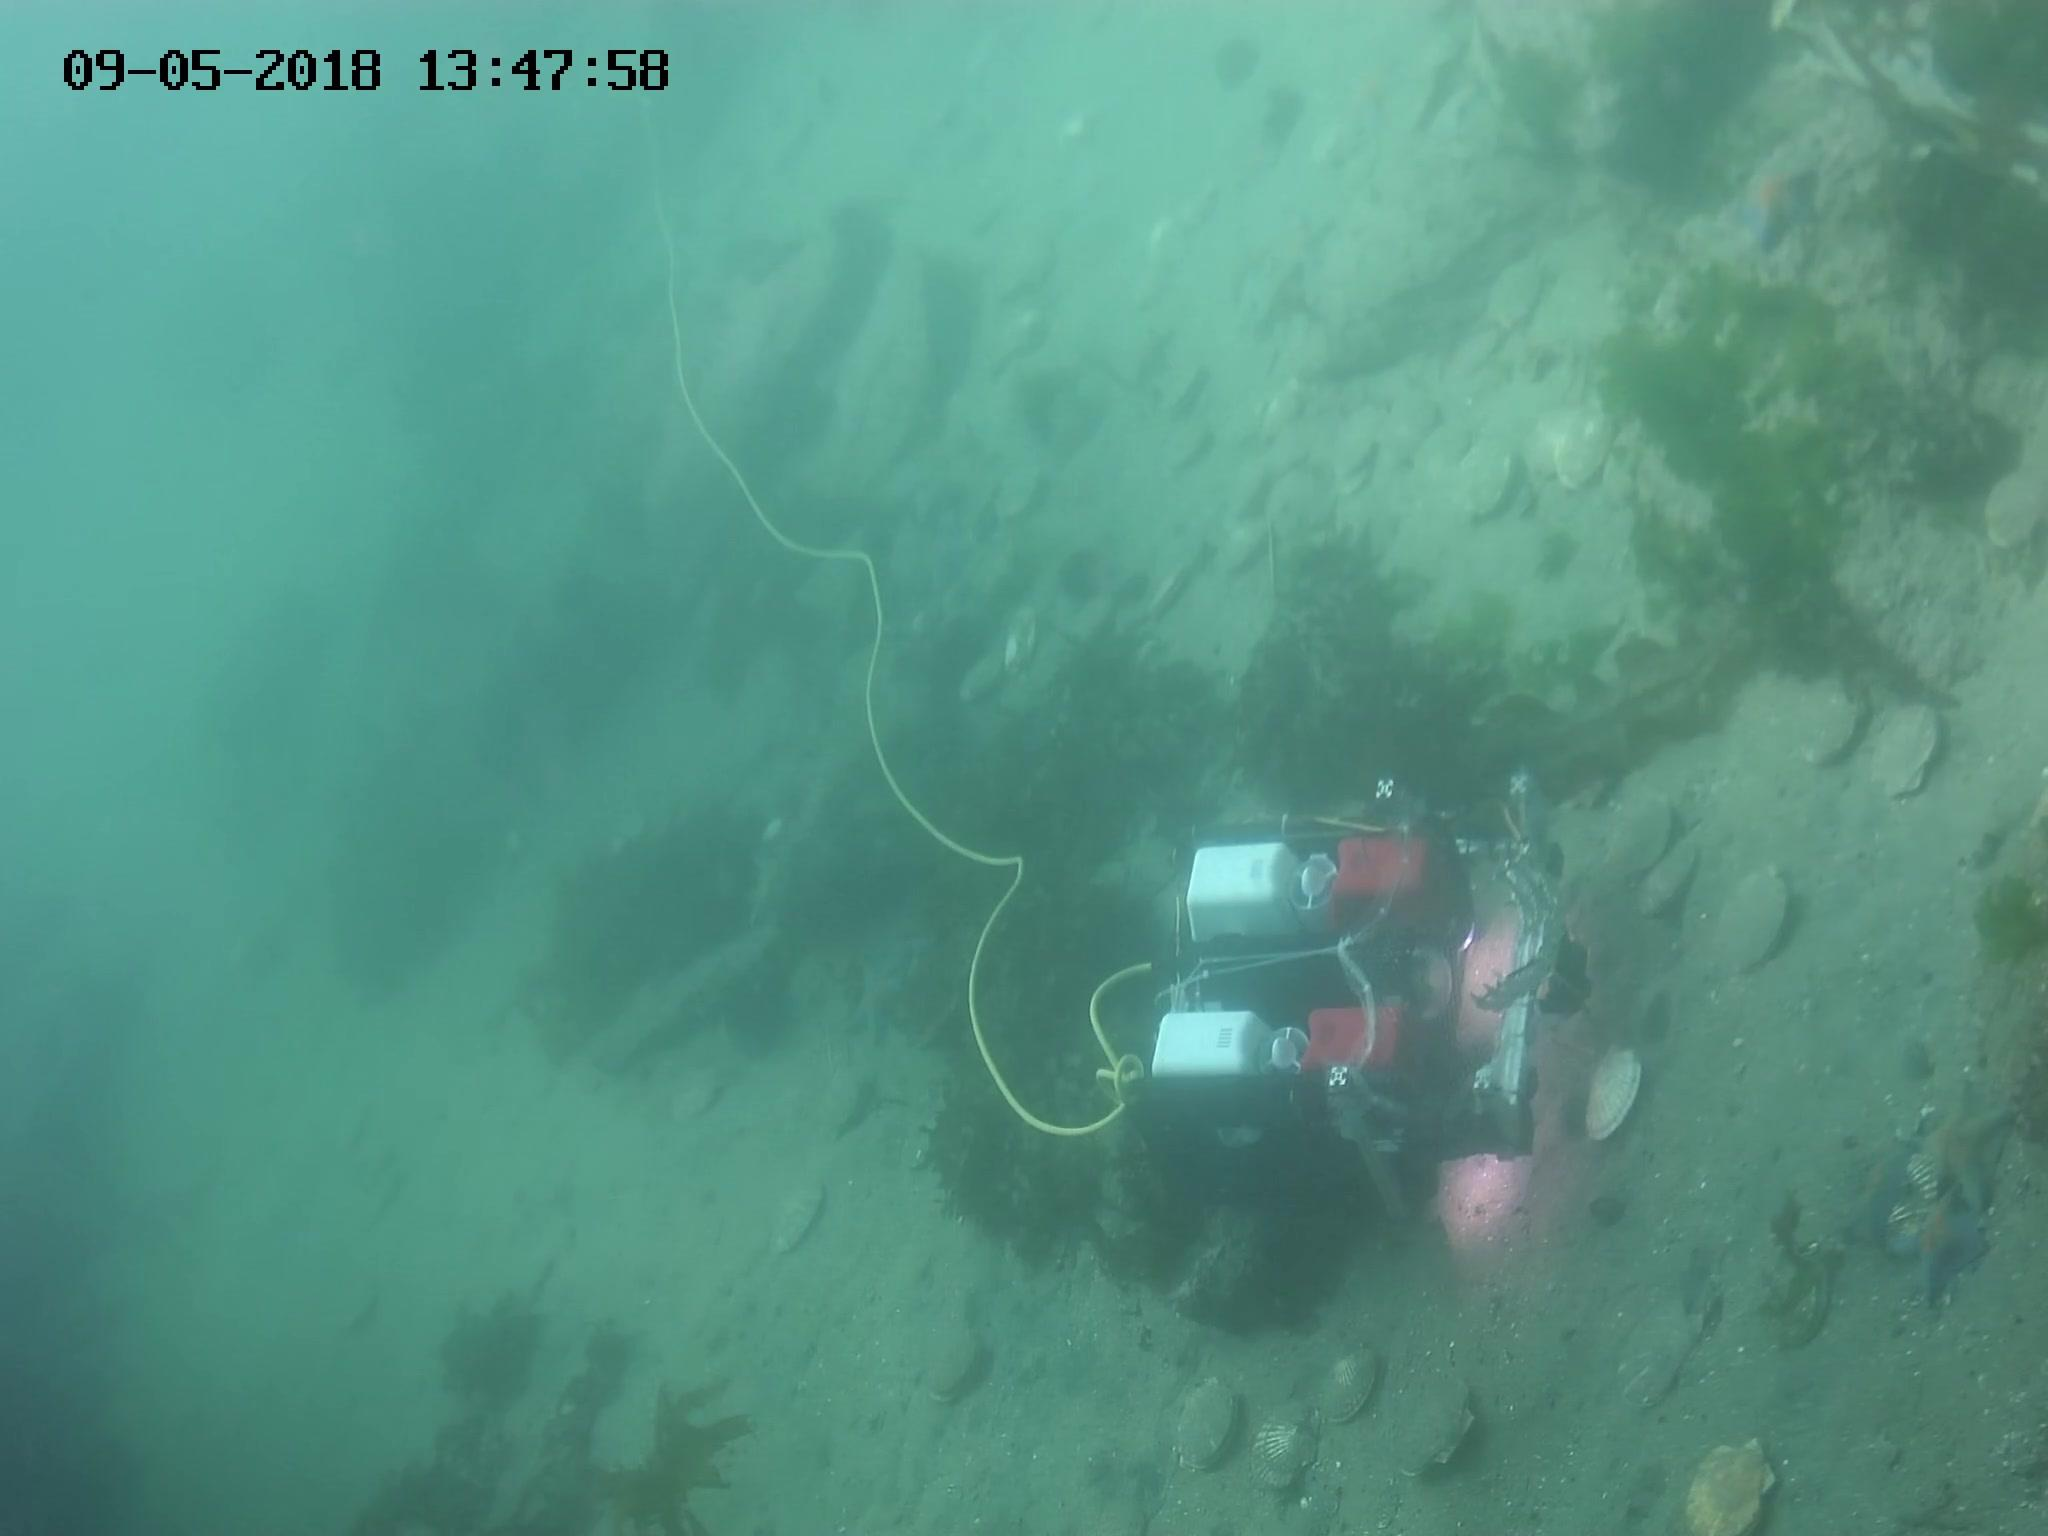scallop: (1679, 1430, 1788, 1536), (1388, 1371, 1484, 1483), (1614, 1296, 1706, 1402), (1721, 858, 1800, 979), (1169, 1367, 1250, 1483), (1579, 1041, 1656, 1152), (1798, 676, 1880, 774), (913, 1320, 993, 1413), (1314, 1334, 1390, 1433), (1875, 699, 1943, 808), (1635, 828, 1705, 928), (1601, 789, 1675, 876), (1250, 1405, 1322, 1494), (1755, 1255, 1821, 1342), (764, 1168, 829, 1255), (1551, 411, 1616, 499), (1887, 1154, 1942, 1255), (1985, 465, 2048, 552), (1455, 444, 1519, 524), (1492, 261, 1546, 336), (1321, 434, 1376, 505), (1380, 402, 1447, 460), (1414, 419, 1474, 482), (1274, 470, 1326, 539), (997, 607, 1048, 671), (993, 466, 1045, 529), (955, 655, 1008, 707), (1155, 366, 1208, 416), (1224, 465, 1269, 523), (1164, 421, 1216, 471), (1218, 523, 1268, 574)
starfish: (1900, 1073, 2025, 1223), (1896, 1194, 2004, 1312), (1730, 144, 1837, 263), (1846, 1147, 1904, 1226)
